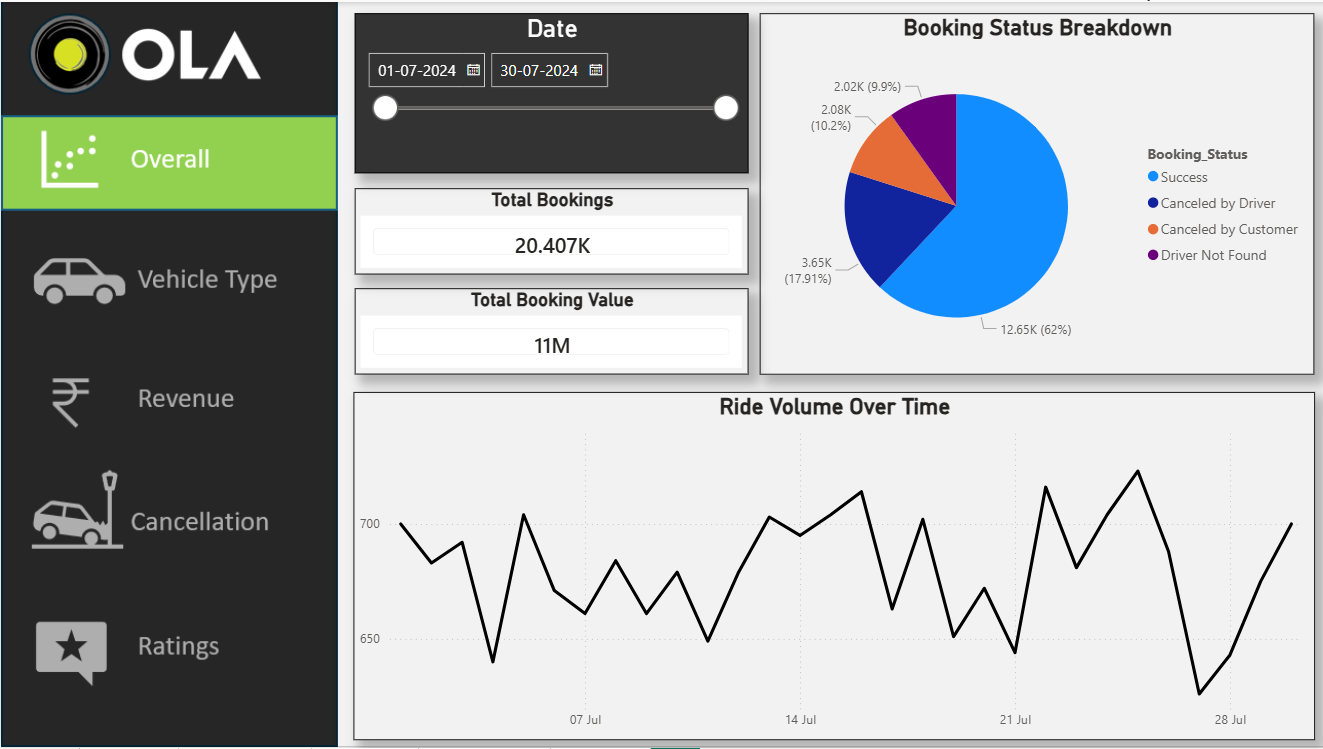

Layout of this report page (visuals, bound fields, positions):
{"tool":"powerbi","page":{"name":"Overall","canvas":[1280,720],"ordinal":0},"visuals":[{"type":"actionButton","box":[0,215.4,323.8,96.1],"z":0},{"type":"actionButton","box":[0,338.9,323.8,96.1],"z":1000},{"type":"actionButton","box":[0,447.3,323.8,96.1],"z":2000},{"type":"actionButton","box":[0,580.4,323.8,96.1],"z":3000},{"type":"lineChart","title":"Ride Volume Over Time","fields":{"Y":["CountNonNull(July.Booking_ID)"],"Category":["July.Date"]},"box":[340.3,376,927.6,336.2],"z":4000},{"type":"pieChart","title":"Booking Status Breakdown","fields":{"Category":["July.Booking_Status"],"Y":["CountNonNull(July.Booking_Status)"]},"box":[732.8,11,535.2,348.5],"z":5000},{"type":"slicer","title":"Date","fields":{"Values":["July.Date"]},"box":[341.4,10.9,380,154.4],"z":6000},{"type":"cardVisual","title":"Total Bookings","fields":{"Data":["Count(July.Booking_ID)"]},"box":[341.4,179.8,380,83.2],"z":7000},{"type":"cardVisual","title":"Total Booking Value","fields":{"Data":["Sum(July.Booking_Value)"]},"box":[341.4,276.3,380,83.2],"z":8000}]}

Visuals, with their boxes in screenshot pixels (x1, y1, x2, y2), scaled from the page's 1280x720 canvas onto the 1323x749 screenshot:
actionButton: {"left": 0, "top": 224, "right": 335, "bottom": 324}
actionButton: {"left": 0, "top": 353, "right": 335, "bottom": 453}
actionButton: {"left": 0, "top": 465, "right": 335, "bottom": 565}
actionButton: {"left": 0, "top": 604, "right": 335, "bottom": 704}
"Ride Volume Over Time" lineChart: {"left": 352, "top": 391, "right": 1310, "bottom": 741}
"Booking Status Breakdown" pieChart: {"left": 757, "top": 11, "right": 1311, "bottom": 374}
"Date" slicer: {"left": 353, "top": 11, "right": 746, "bottom": 172}
"Total Bookings" cardVisual: {"left": 353, "top": 187, "right": 746, "bottom": 274}
"Total Booking Value" cardVisual: {"left": 353, "top": 287, "right": 746, "bottom": 374}
